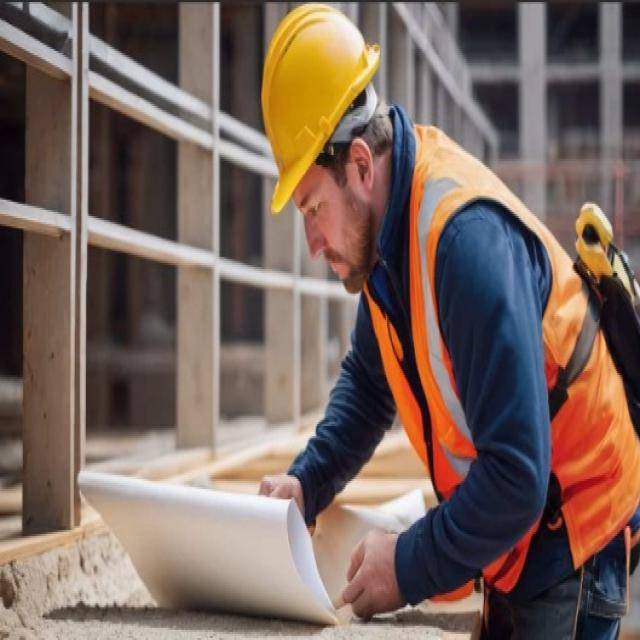not-gloved: (333, 518, 402, 636)
